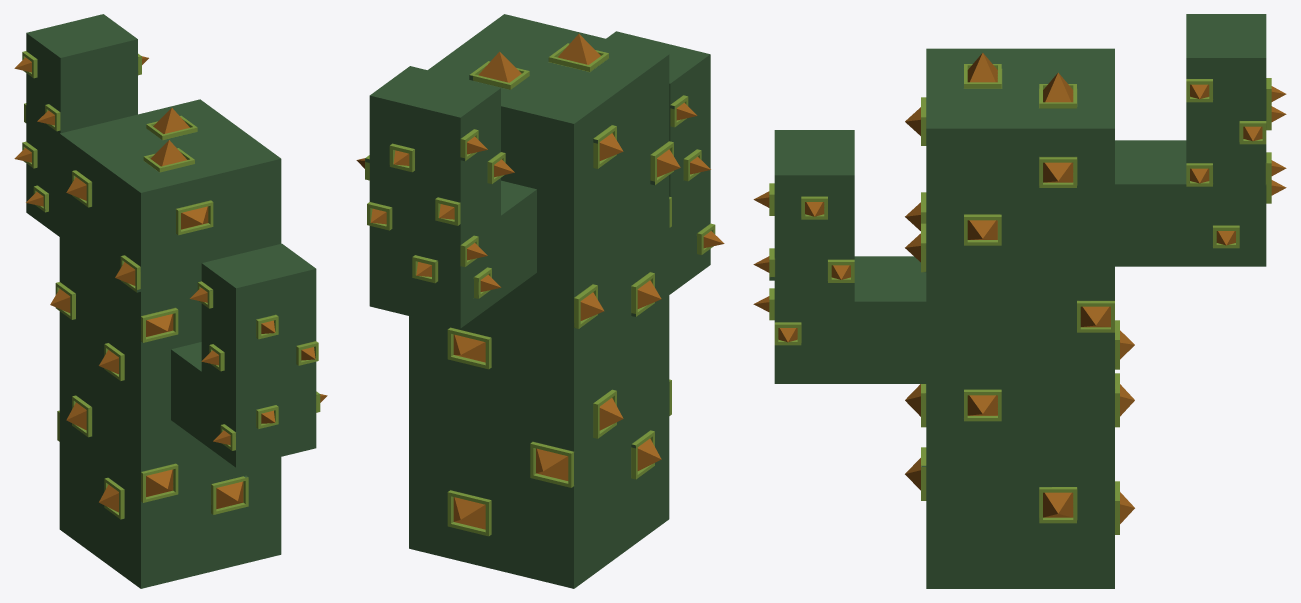
The model's file is cactus.fbx.
3 views of the same model, side by side, from view 1: azimuth 30°, elevation 25°; view 2: azimuth 150°, elevation 25°; view 3: azimuth 270°, elevation 25° (orthographic). The views are drawn at different scales.
Visible parts, largest first — view 1: cactus; view 2: cactus; view 3: cactus.
Part boxes in pixels (left/top/right/bottom): cactus: left=14, top=14, right=327, bottom=588; cactus: left=356, top=14, right=724, bottom=588; cactus: left=753, top=14, right=1286, bottom=588.
Bounding box in the file's own units: 125 × 300 × 283.
Materials: 1 (1 with a texture image).
